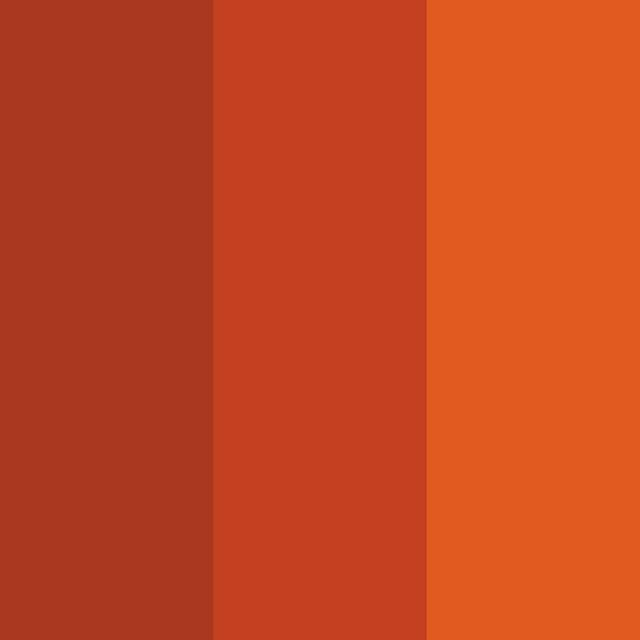Red Soil: (53, 74, 320, 627)
